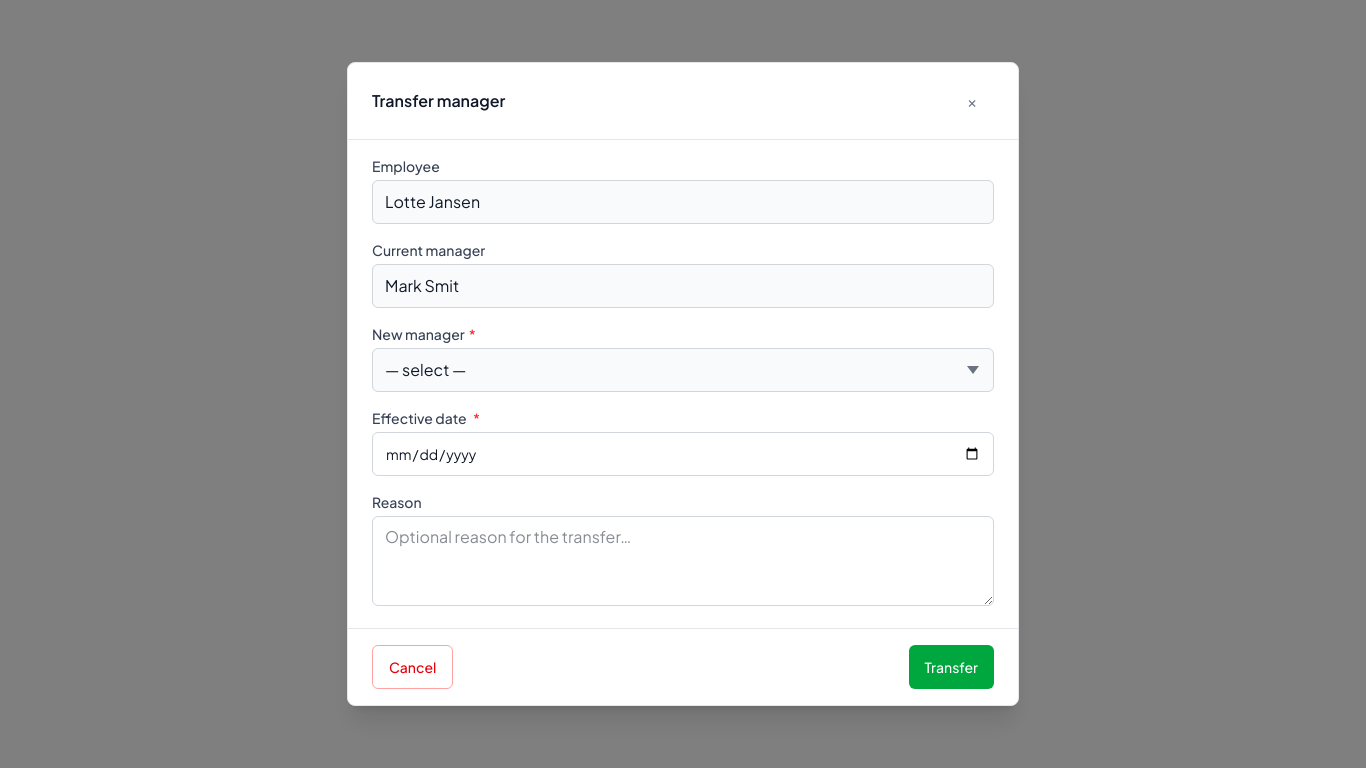
Test: TransferManagerModal › AC-W04: shows "Choose a new manager." when Transfer is clicked without a manager selected
This screenshot has width=1366, height=768.
Note: Click Transfer without selecting a manager or date
Click the button "Transfer".
click(951, 667)  # box [909,645,994,689]
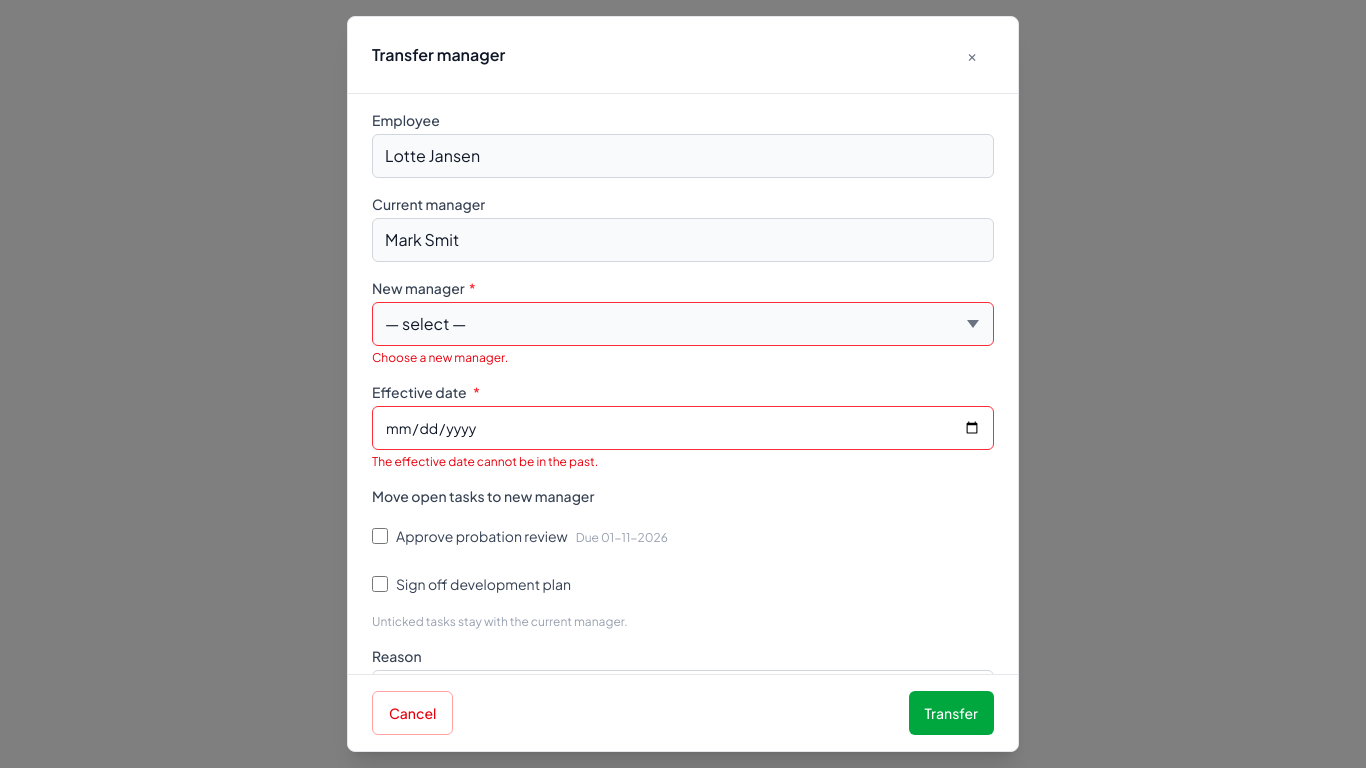
Check: the text "Choose a new manager." is shown, box [372,350,508,365]
